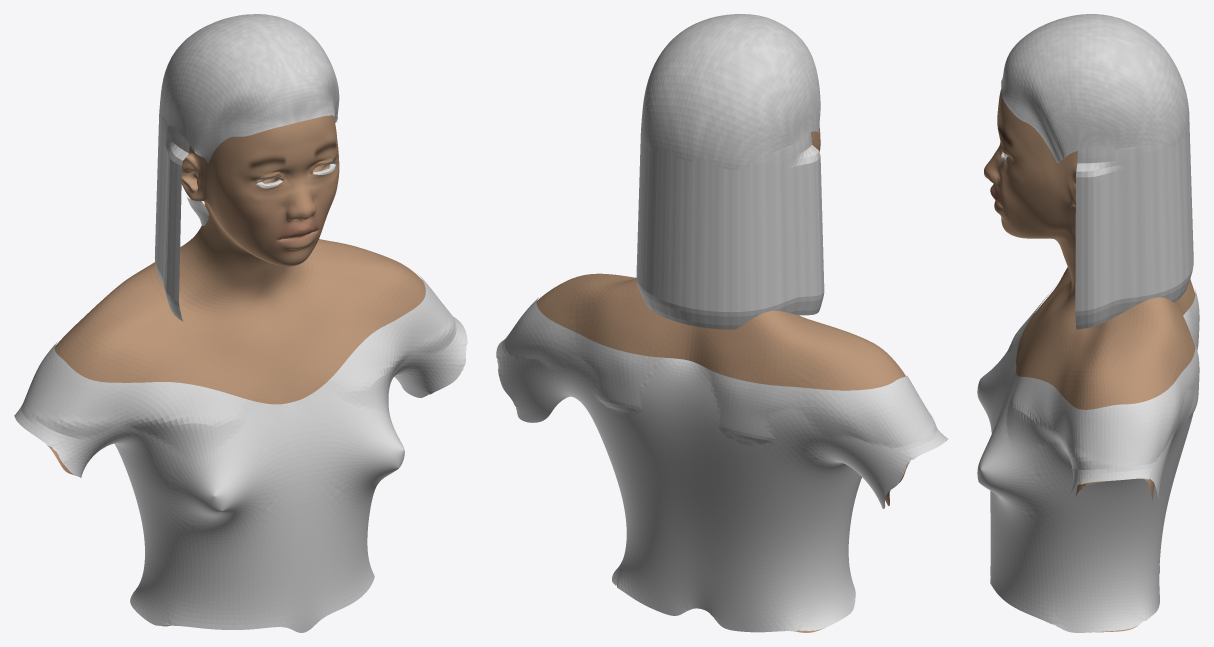
The model's file is hd_f_medium.glb.
The picture shows the model from 3 angles, left to right: view 1: azimuth 30°, elevation 25°; view 2: azimuth 150°, elevation 25°; view 3: azimuth 270°, elevation 25°; orthographic projection.
Visible parts, largest first — view 1: top, skin, hair; view 2: top, hair, skin; view 3: top, hair, skin.
Boxes of the visible parts, x1,y1,x2,y2 form: top: (14, 273, 467, 632); skin: (47, 115, 425, 626); hair: (154, 14, 339, 321); top: (496, 297, 948, 632); hair: (636, 14, 824, 329); skin: (536, 125, 909, 632); top: (977, 289, 1199, 632); hair: (1001, 14, 1193, 329); skin: (984, 89, 1195, 632).
Bounding box in the file's own units: 0.4671 × 0.5869 × 0.21.
